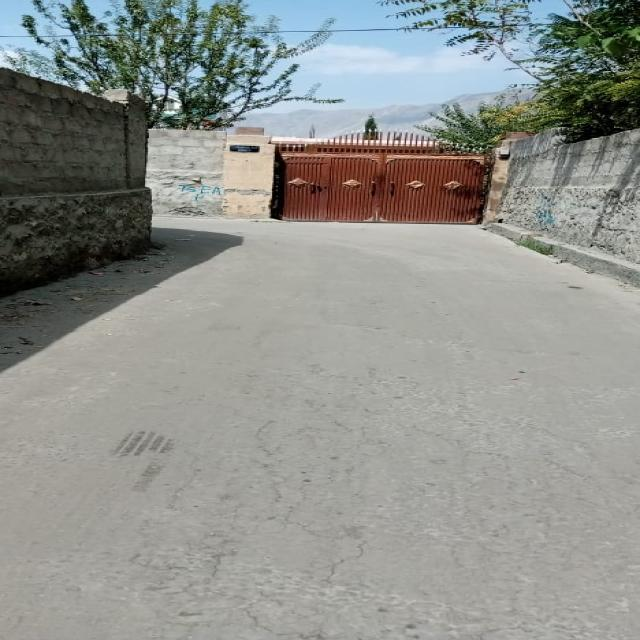Left-Turn: (150, 208, 230, 309)
